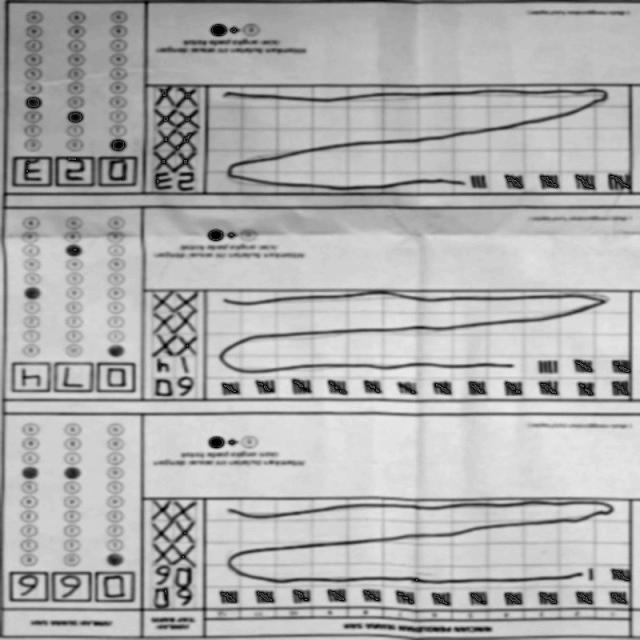Suara: (8, 154, 142, 196), (7, 568, 142, 609), (7, 358, 142, 399)
